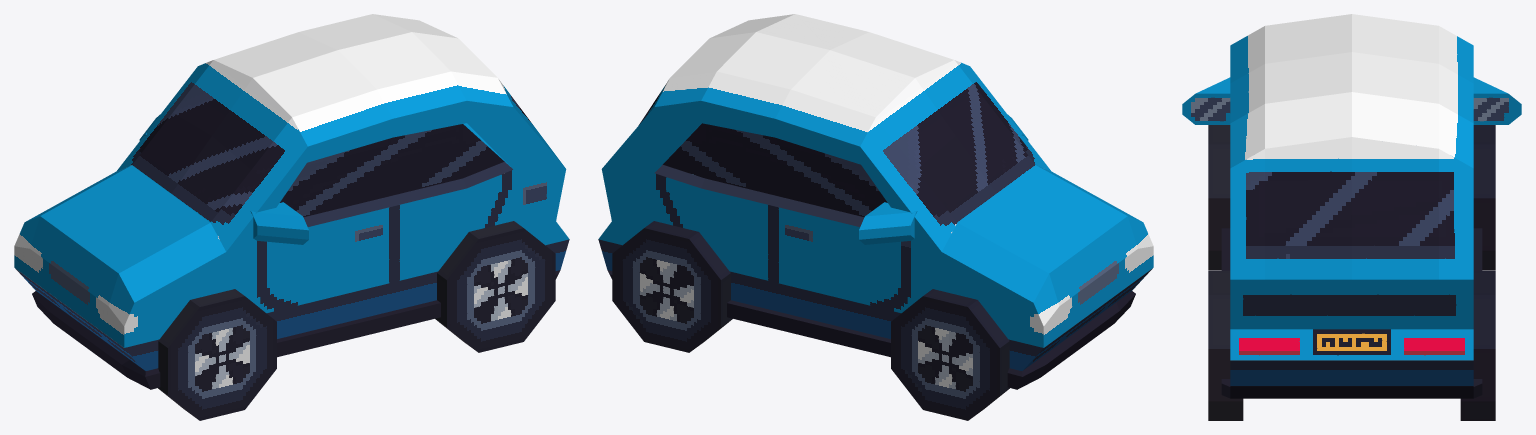
Rendered from car.gltf.
The picture shows the model from 3 angles, left to right: view 1: azimuth 30°, elevation 25°; view 2: azimuth 150°, elevation 25°; view 3: azimuth 270°, elevation 25°; orthographic projection. The views are drawn at different scales.
Parts seen in each view (by area): view 1: cuboid; view 2: cuboid; view 3: cuboid.
Part boxes in pixels (<box>): cuboid: <box>14,14,569,420</box>; cuboid: <box>598,14,1153,420</box>; cuboid: <box>1182,14,1521,420</box>.
Bounding box in the file's own units: 2.05 × 1.2 × 1.22.
5 materials, 5 textured.
